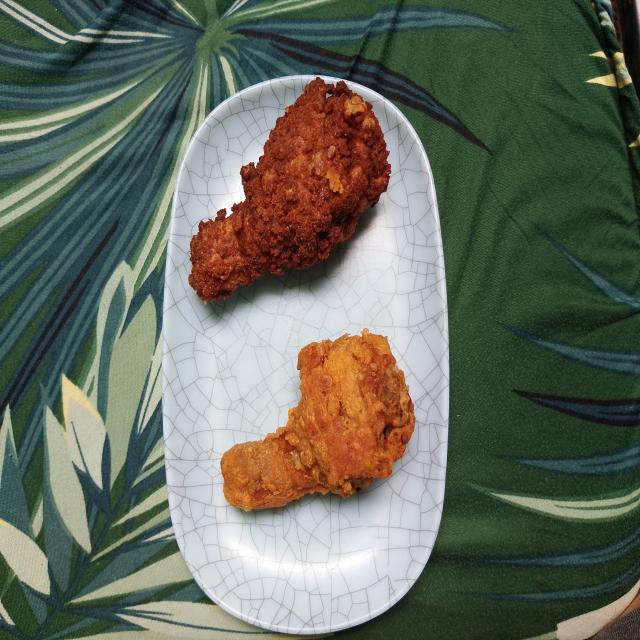Chicken -Fried Chicken-: (182, 67, 409, 314), (214, 322, 436, 540)
